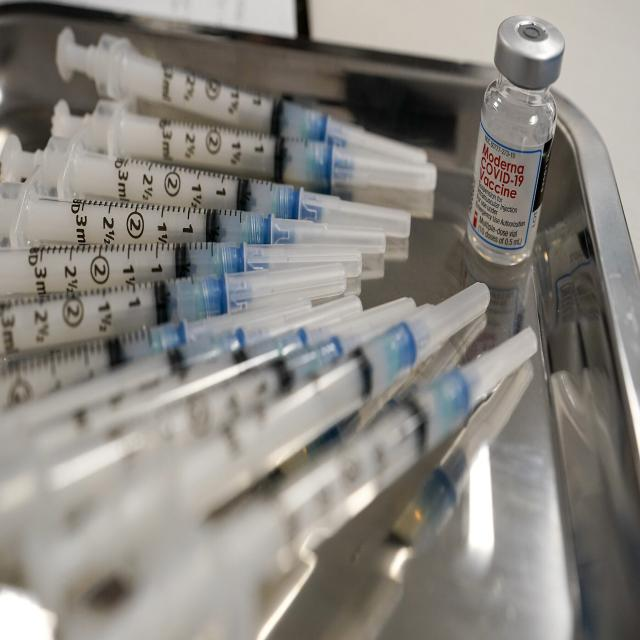B3: (50, 15, 452, 142), (452, 0, 574, 283)
